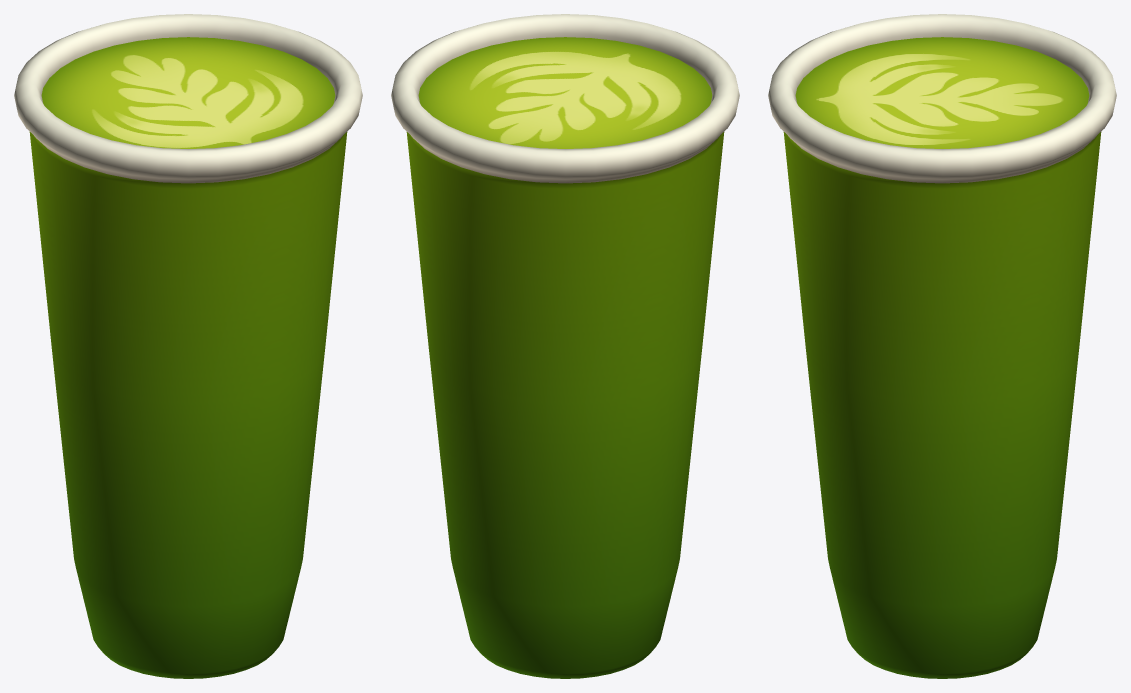
The model's file is Cup_05.fbx.
3 views of the same model, side by side, from view 1: azimuth 30°, elevation 25°; view 2: azimuth 150°, elevation 25°; view 3: azimuth 270°, elevation 25° (orthographic).
Visible parts, largest first — view 1: Cup_05, Cup_05_Top; view 2: Cup_05, Cup_05_Top; view 3: Cup_05, Cup_05_Top.
Part boxes in pixels (x1,y1,x2,y2): Cup_05: (14, 14, 362, 678); Cup_05_Top: (41, 37, 335, 148); Cup_05: (391, 14, 739, 678); Cup_05_Top: (418, 37, 712, 148); Cup_05: (768, 14, 1116, 678); Cup_05_Top: (795, 37, 1089, 148).
Size of the model in its own units: 67.08 by 120 by 67.08.
Materials: 2 (2 with a texture image).
